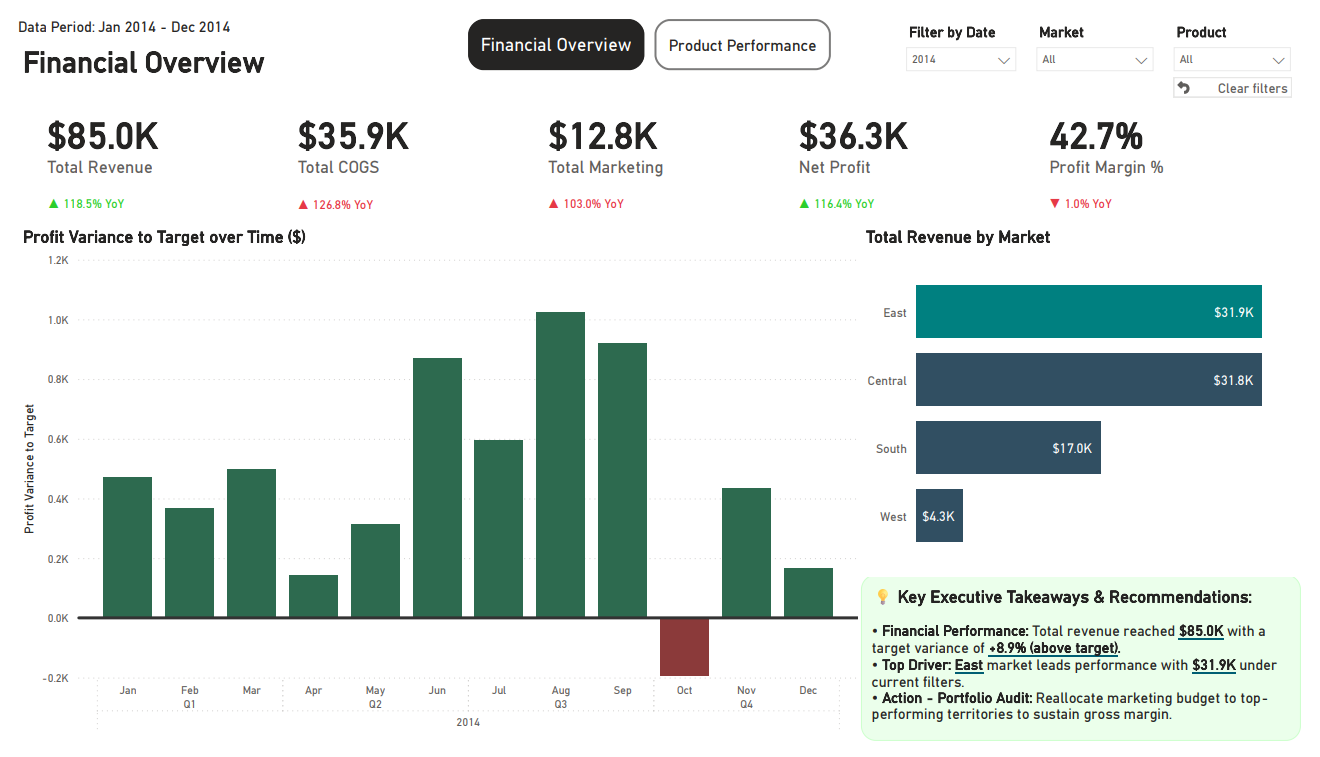

What the dashboard file says about the page in this screenshot:
{"tool":"powerbi","page":{"name":"Financial Overview","canvas":[1280,720],"ordinal":0},"visuals":[{"type":"columnChart","title":"Profit Variance to Target over Time ($)","fields":{"Category":["Calendar.Year","Calendar.Quarter","Calendar.Month"],"Y":["_Measures.Profit Variance to Target"]},"box":[0,207.1,842.9,512.9],"z":0},{"type":"textbox","box":[841.4,554.3,438.6,165.7],"z":1000},{"type":"cardVisual","fields":{"Data":["_Measures.Total Revenue","_Measures.Total COGS","_Measures.Total Marketing","_Measures.Net Profit","_Measures.Profit Margin %"]},"box":[0,77.1,1280,98.6],"z":2000},{"type":"textbox","box":[0,21.4,338.6,45.7],"z":3000},{"type":"slicer","fields":{"Values":["Fact_Sales.Product"]},"box":[1142.9,0,137.1,57.1],"z":4000},{"type":"slicer","fields":{"Values":["Dim_Geography.Market"]},"box":[1005.7,0,137.1,57.1],"z":5000},{"type":"actionButton","box":[1152.9,57.6,117.6,20.6],"z":6000},{"type":"barChart","fields":{"Y":["_Measures.Total Revenue"],"Category":["Dim_Geography.Market"]},"box":[841.4,207.1,438.6,348.6],"z":7000},{"type":"slicer","fields":{"Values":["Calendar.Year","Calendar.Month"]},"box":[875.7,0,130,56.9],"z":8000},{"type":"cardVisual","fields":{"Data":["_Measures.Revenue_Variance_Formatted"]},"box":[0,159.3,200,46.7],"z":9000},{"type":"pageNavigator","box":[448.6,0,362.9,51.4],"z":10000},{"type":"cardVisual","fields":{"Data":["_Measures.COGS YoY Formatted"]},"box":[249.3,158.6,204,48],"z":11000},{"type":"cardVisual","fields":{"Data":["_Measures.Total Marketing YoY Formated"]},"box":[498.6,157.9,188.6,48.6],"z":12000},{"type":"cardVisual","fields":{"Data":["_Measures.Net Profit YoY Formatted"]},"box":[749.4,157.9,188.6,48.6],"z":13000},{"type":"cardVisual","fields":{"Data":["_Measures.Profit Margin % YoY Formetted"]},"box":[998.7,158,188.6,48.6],"z":14000},{"type":"shape","box":[0,0,223.6,22.7],"z":15000}]}

Visuals, with their boxes in screenshot pixels (x1, y1, x2, y2), scaled from the page's 1280x720 canvas onto the 1320x757 screenshot:
"Profit Variance to Target over Time ($)" columnChart: (x1=0, y1=218, x2=869, y2=756)
textbox: (x1=868, y1=583, x2=1319, y2=756)
cardVisual - _Measures.Total Revenue x _Measures.Total COGS: (x1=0, y1=81, x2=1319, y2=185)
textbox: (x1=0, y1=22, x2=349, y2=71)
slicer - Fact_Sales.Product: (x1=1179, y1=0, x2=1319, y2=60)
slicer - Dim_Geography.Market: (x1=1037, y1=0, x2=1179, y2=60)
actionButton: (x1=1189, y1=61, x2=1310, y2=82)
barChart - _Measures.Total Revenue x Dim_Geography.Market: (x1=868, y1=218, x2=1319, y2=584)
slicer - Calendar.Year x Calendar.Month: (x1=903, y1=0, x2=1037, y2=60)
cardVisual - _Measures.Revenue_Variance_Formatted: (x1=0, y1=167, x2=206, y2=217)
pageNavigator: (x1=463, y1=0, x2=837, y2=54)
cardVisual - _Measures.COGS YoY Formatted: (x1=257, y1=167, x2=467, y2=217)
cardVisual - _Measures.Total Marketing YoY Formated: (x1=514, y1=166, x2=709, y2=217)
cardVisual - _Measures.Net Profit YoY Formatted: (x1=773, y1=166, x2=967, y2=217)
cardVisual - _Measures.Profit Margin % YoY Formetted: (x1=1030, y1=166, x2=1224, y2=217)
shape: (x1=0, y1=0, x2=231, y2=24)
